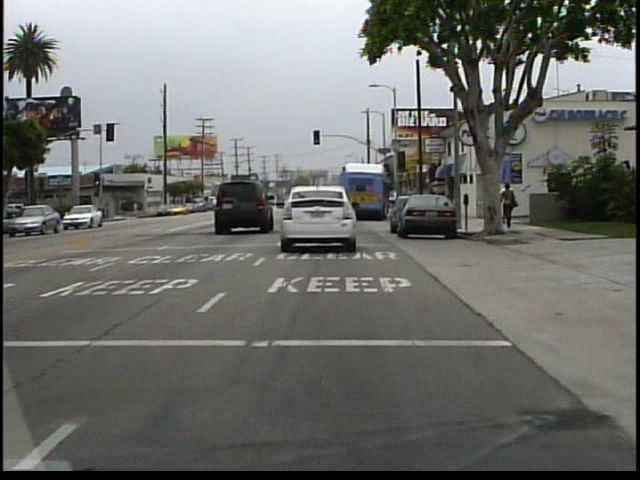person: (498, 179, 517, 230), (498, 179, 516, 228), (131, 197, 142, 219)
